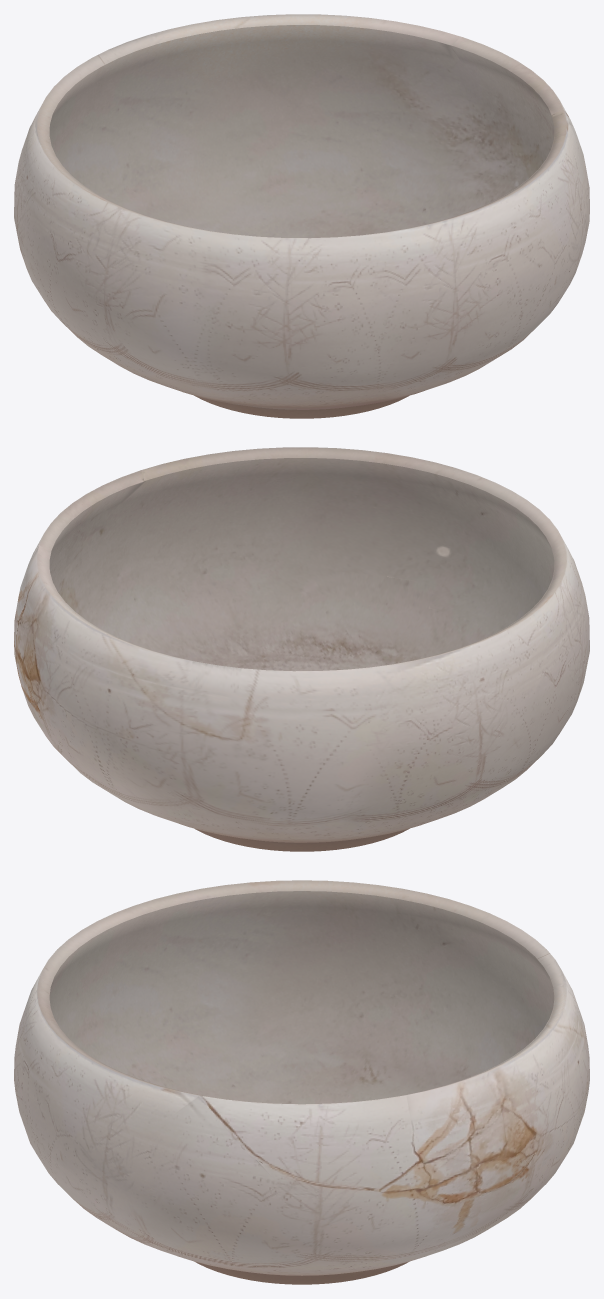
The model's file is vazo_1.glb.
The picture shows the model from 3 angles, top to bottom: view 1: azimuth 30°, elevation 25°; view 2: azimuth 150°, elevation 25°; view 3: azimuth 270°, elevation 25°; orthographic projection.
Parts seen in each view (by area): view 1: VAZO_SPASMENO, KOMMATAKI; view 2: VAZO_SPASMENO, KOMMATAKI; view 3: VAZO_SPASMENO, KOMMATAKI.
Part boxes in pixels (x1,y1,x2,y2): VAZO_SPASMENO: (14, 14, 589, 418); KOMMATAKI: (451, 36, 569, 137); VAZO_SPASMENO: (14, 447, 589, 851); KOMMATAKI: (20, 469, 144, 587); VAZO_SPASMENO: (14, 880, 589, 1284); KOMMATAKI: (197, 1095, 420, 1191).
Size of the model in its own units: 1.5 by 0.6759 by 1.5.
Materials: 1 (1 with a texture image).
